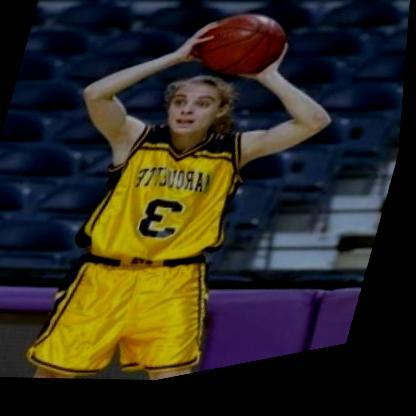basketball: (183, 0, 301, 108)
